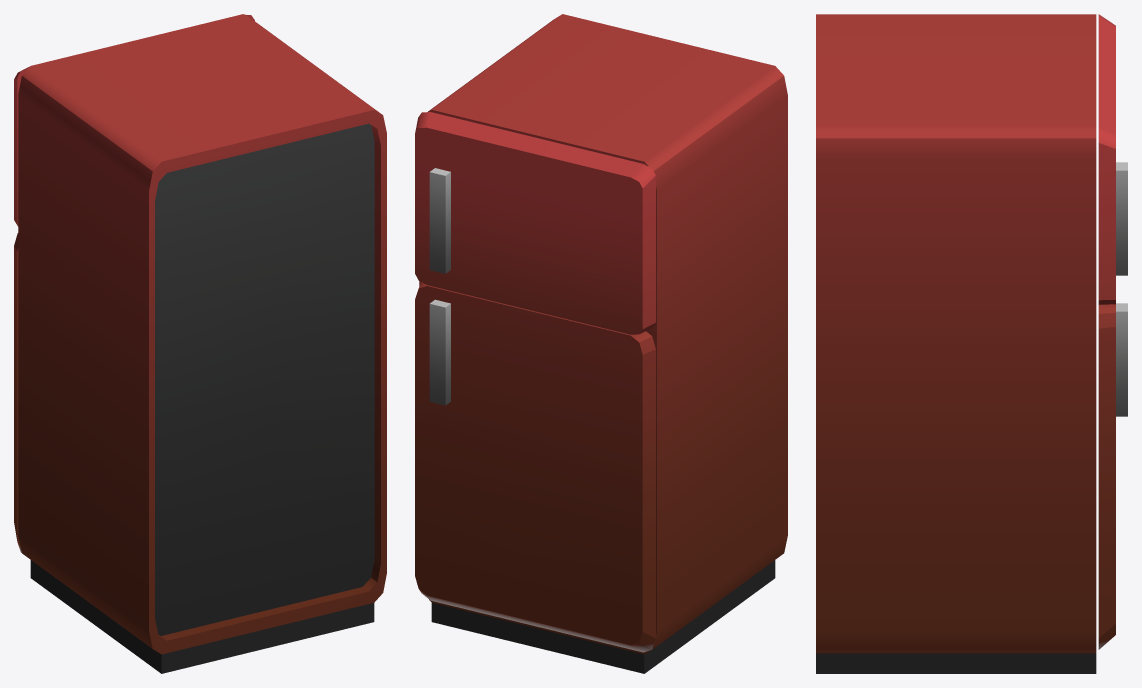
The model's file is Fridge.fbx.
3 renders of one model, left to right at view 1: azimuth 30°, elevation 25°; view 2: azimuth 150°, elevation 25°; view 3: azimuth 270°, elevation 25°, orthographic. The views are drawn at different scales.
Visible parts, largest first — view 1: Cube; view 2: Cube; view 3: Cube.
Boxes of the visible parts, x1,y1,x2,y2 form: Cube: (14,14,386,673); Cube: (415,14,787,673); Cube: (816,14,1127,673).
Bounding box in the file's own units: 297 × 612 × 316.
